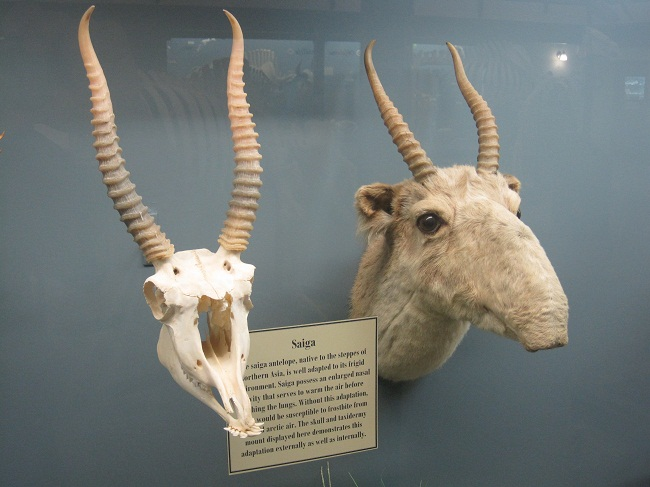saiga: (341, 37, 582, 386)
